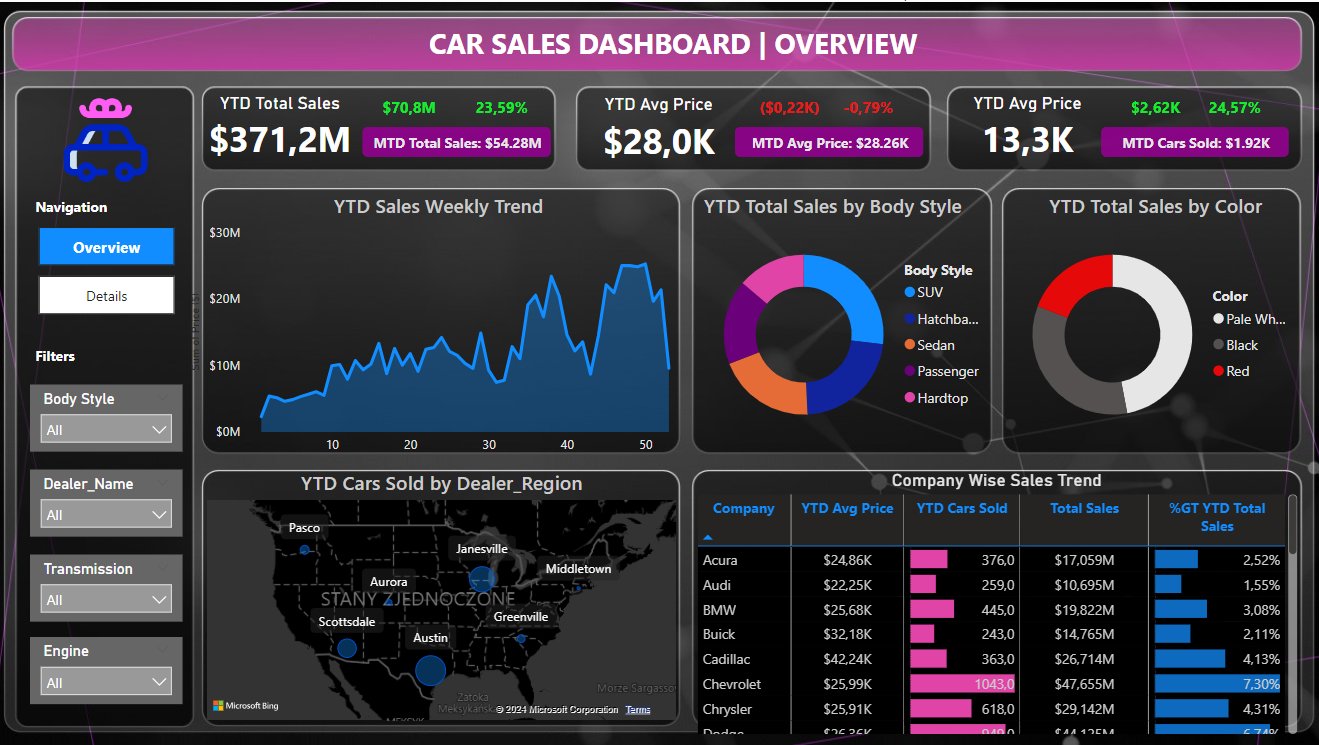

This screenshot's page, from the dashboard's own definition file:
{"tool":"powerbi","page":{"name":"Overview","canvas":[1280,720],"ordinal":0},"visuals":[{"type":"card","title":"YTD Total Sales","fields":{"Values":["car_data.YTD Total Sales"]},"box":[173.8,86.2,202.5,72.5],"z":0},{"type":"card","fields":{"Values":["car_data.Sales Difference"]},"box":[361.2,87.5,76.2,32.5],"z":1000},{"type":"card","fields":{"Values":["car_data.YoY Sales Growth"]},"box":[451.2,87.5,76.2,32.5],"z":2000},{"type":"card","fields":{"Values":["car_data.MTD KPI"]},"box":[355,120,181.2,28.8],"z":3000},{"type":"card","title":"YTD Avg Price","fields":{"Values":["car_data.YTD Avg Price"]},"box":[538.8,87.5,202.5,72.5],"z":4000},{"type":"card","fields":{"Values":["car_data.Avg Price Diff"]},"box":[728.8,87.5,76.2,32.5],"z":5000},{"type":"card","fields":{"Values":["car_data.YoY Avg Growth"]},"box":[805,87.5,76.2,32.5],"z":6000},{"type":"card","fields":{"Values":["car_data.MTD Avg Price KPI"]},"box":[713.8,120,181.2,28.8],"z":7000},{"type":"card","fields":{"Values":["car_data.Cars Sold Diff"]},"box":[1081.2,87.5,76.2,32.5],"z":8000},{"type":"card","fields":{"Values":["car_data.YoY Cars Sold"]},"box":[1157.8,88,77.2,32.6],"z":9000},{"type":"card","title":"YTD Avg Price","fields":{"Values":["car_data.YTD Cars Sold"]},"box":[895,86.2,202.5,72.5],"z":10000},{"type":"card","fields":{"Values":["car_data.MTD Car Sold KPI"]},"box":[1067.3,120.6,180.9,28.9],"z":11000},{"type":"stackedAreaChart","title":"YTD Sales Weekly Trend","fields":{"Category":["Calendar Table.Week"],"Y":["Sum(car_data.Price ($))"]},"box":[183.3,183.3,489.6,261.7],"z":12000},{"type":"donutChart","fields":{"Category":["car_data.Body Style"],"Y":["car_data.YTD Total Sales"]},"box":[679,183.3,285.8,250.9],"z":13000},{"type":"donutChart","fields":{"Category":["car_data.Color"],"Y":["car_data.YTD Total Sales"]},"box":[976.9,183.3,285.8,250.9],"z":14000},{"type":"map","fields":{"Category":["car_data.Dealer_Region"],"Size":["car_data.YTD Cars Sold"]},"box":[200.2,451.1,461.9,247.2],"z":15000},{"type":"tableEx","title":"Company Wise Sales Trend","fields":{"Values":["car_data.Company","car_data.YTD Avg Price","car_data.YTD Cars Sold","car_data.Total Sales","car_data.YTD Total Sales"]},"box":[671.8,451.1,589.7,260.5],"z":16000},{"type":"slicer","fields":{"Values":["car_data.Body Style"]},"box":[33.8,369,147.1,65.1],"z":17000},{"type":"slicer","fields":{"Values":["car_data.Dealer_Name"]},"box":[33.8,451.1,147.1,65.1],"z":18000},{"type":"slicer","fields":{"Values":["car_data.Transmission"]},"box":[33.8,533.1,147.1,65.1],"z":19000},{"type":"slicer","fields":{"Values":["car_data.Engine"]},"box":[33.8,612.7,147.1,65.1],"z":20000},{"type":"textbox","box":[413.7,16.9,495.7,50.7],"z":21000},{"type":"pageNavigator","box":[42.2,217.1,131.5,84.4],"z":22000},{"type":"textbox","box":[33.8,183.3,150.8,33.8],"z":23000},{"type":"textbox","box":[33.8,326.8,150.8,33.8],"z":24000},{"type":"image","box":[61.5,85.6,90.5,95.3],"z":24001}]}

Visuals, with their boxes in screenshot pixels (x1, y1, x2, y2), scaled from the page's 1280x720 canvas onto the 1319x745 screenshot:
"YTD Total Sales" card: 179:89:388:164
card - car_data.Sales Difference: 372:91:451:124
card - car_data.YoY Sales Growth: 465:91:543:124
card - car_data.MTD KPI: 366:124:553:154
"YTD Avg Price" card: 555:91:764:166
card - car_data.Avg Price Diff: 751:91:830:124
card - car_data.YoY Avg Growth: 830:91:908:124
card - car_data.MTD Avg Price KPI: 736:124:922:154
card - car_data.Cars Sold Diff: 1114:91:1193:124
card - car_data.YoY Cars Sold: 1193:91:1273:125
"YTD Avg Price" card: 922:89:1131:164
card - car_data.MTD Car Sold KPI: 1100:125:1286:155
"YTD Sales Weekly Trend" stackedAreaChart: 189:190:693:460
donutChart - car_data.Body Style x car_data.YTD Total Sales: 700:190:994:449
donutChart - car_data.Color x car_data.YTD Total Sales: 1007:190:1301:449
map - car_data.Dealer_Region x car_data.YTD Cars Sold: 206:467:682:723
"Company Wise Sales Trend" tableEx: 692:467:1300:736
slicer - car_data.Body Style: 35:382:186:449
slicer - car_data.Dealer_Name: 35:467:186:534
slicer - car_data.Transmission: 35:552:186:619
slicer - car_data.Engine: 35:634:186:701
textbox: 426:17:937:70
pageNavigator: 43:225:179:312
textbox: 35:190:190:225
textbox: 35:338:190:373
image: 63:89:157:187
